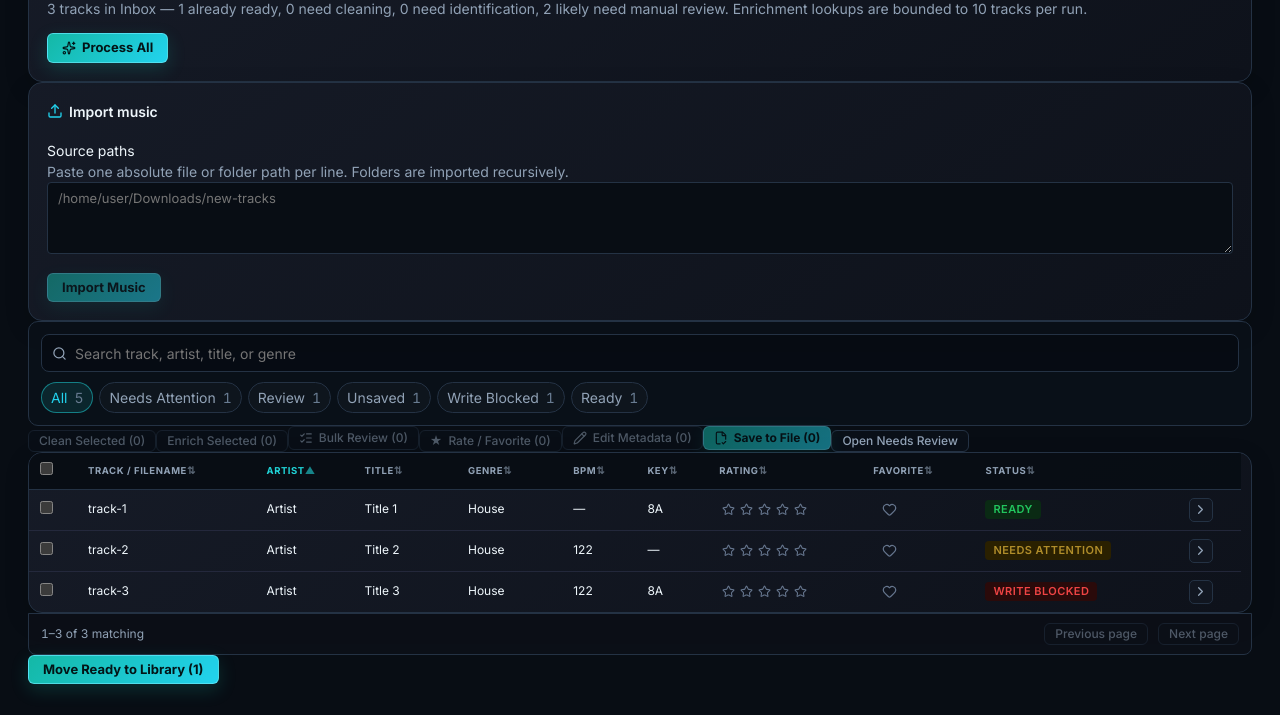
it: Inbox filtering, selection, and inspector › supports shift-click range selection within the rendered page
(page scrolled)
Click the checkbox named "Select track-1.mp3" at (46, 508), box x1=40 y1=501 x2=53 y2=514
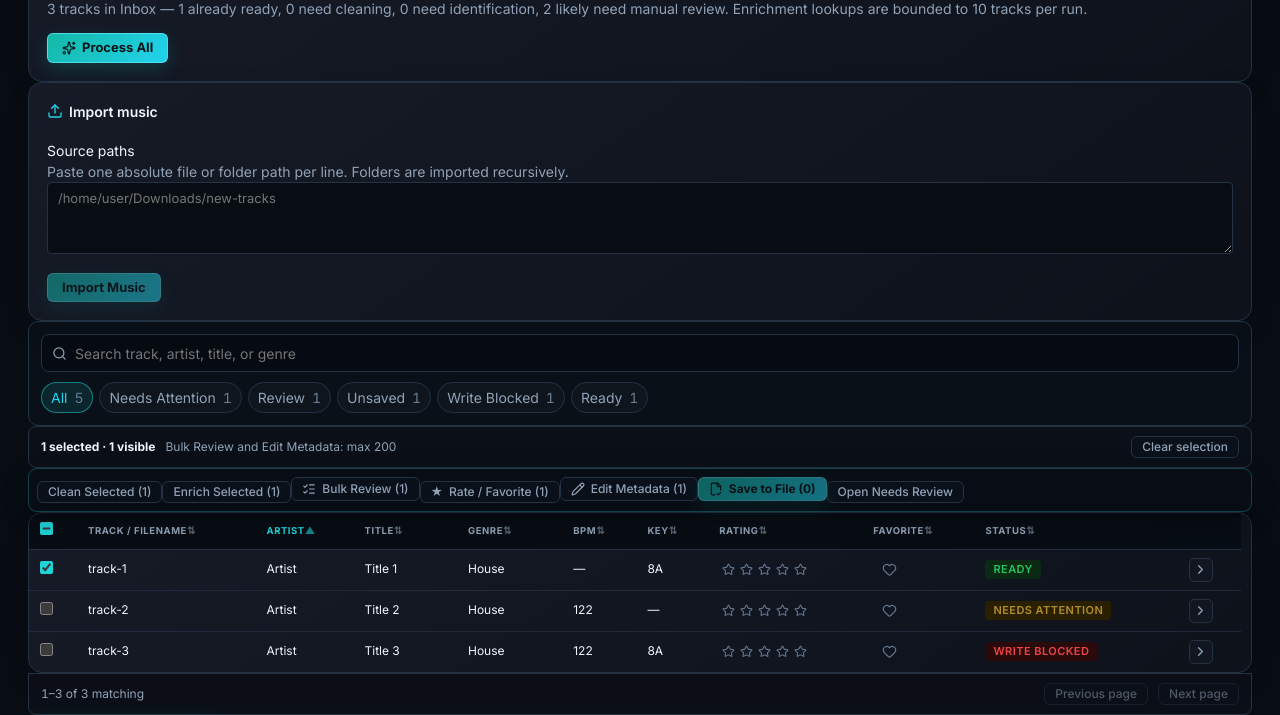
Click the checkbox named "Select track-3.mp3" at (46, 650), box x1=40 y1=643 x2=53 y2=656
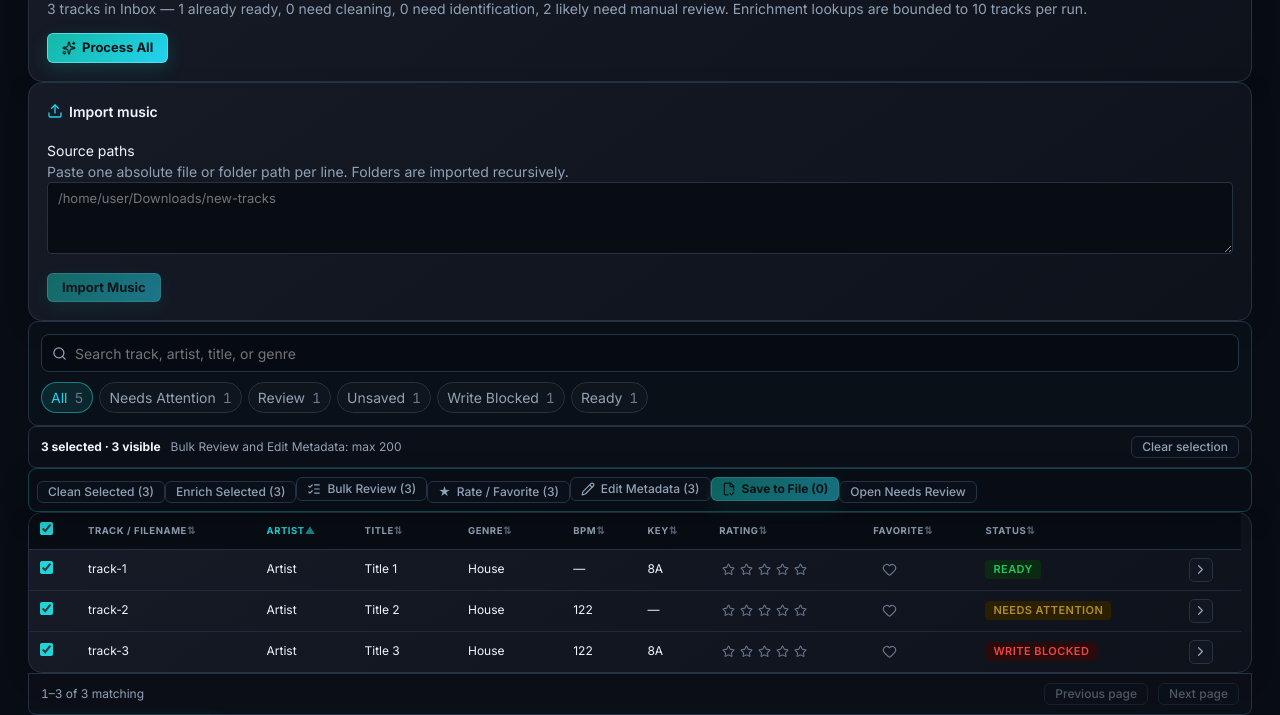
Now the text "3 selected · 3 visible" is shown, box x1=41 y1=438 x2=161 y2=456
Now the checkbox named "Select track-2.mp3" is checked, box x1=40 y1=602 x2=53 y2=615
